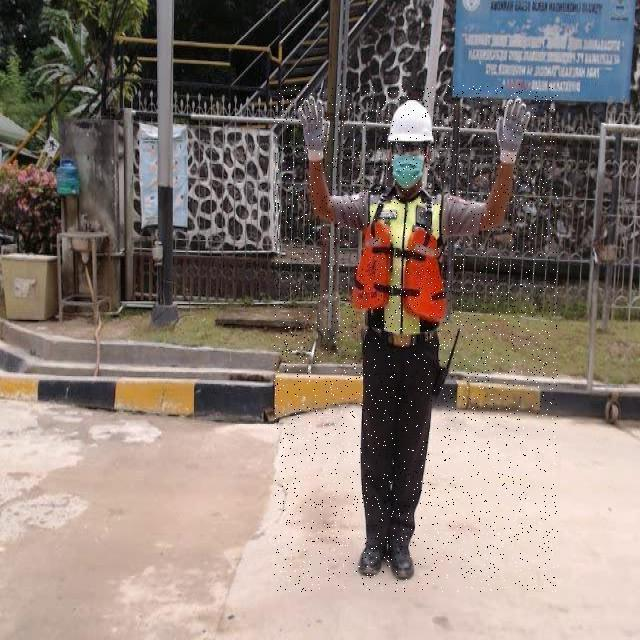gloves: (496, 98, 530, 164), (297, 96, 329, 162)
goggles: (390, 142, 429, 155)
helmet: (388, 99, 435, 149)
safety_vest: (350, 195, 445, 335)
